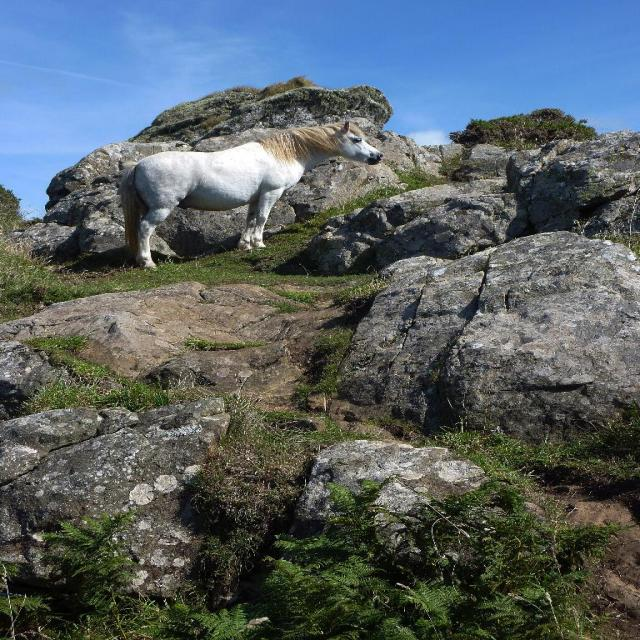Horse: (117, 120, 384, 269)
